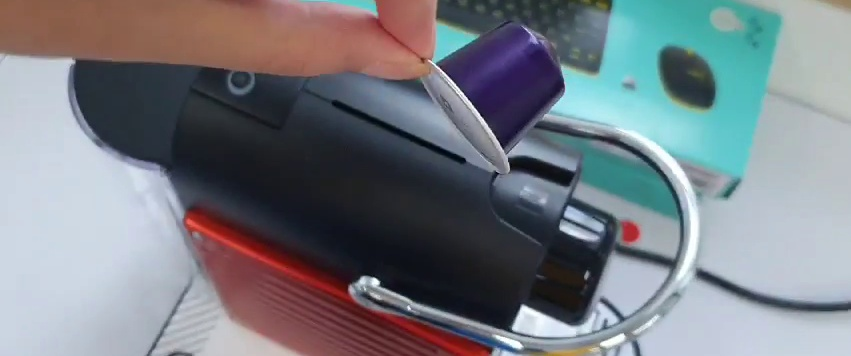capsule_11: (416, 16, 567, 173)
